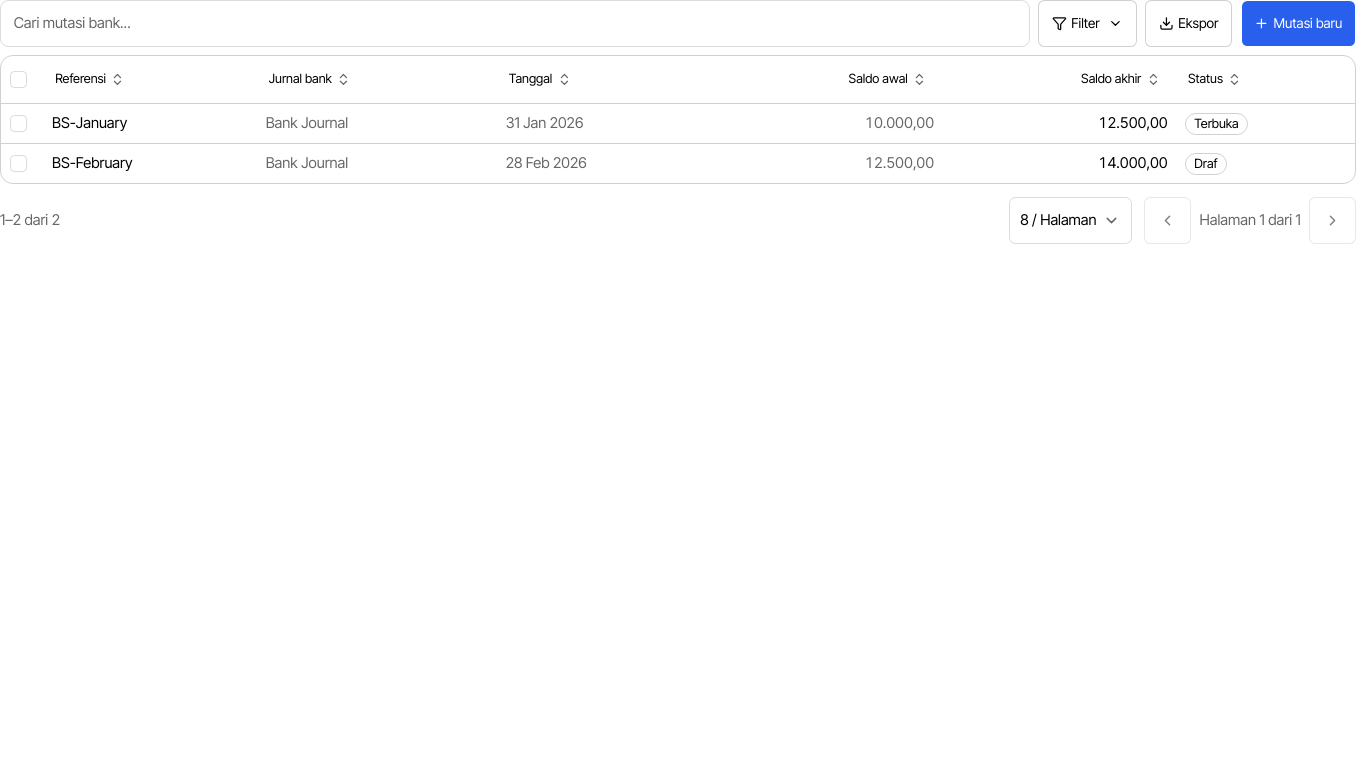
Test: BankStatementsSection › opens the create dialog from the add button
Expected: the link "BS-January" is shown, [52, 114, 127, 132]
Click the button "Mutasi baru": (1298, 23) [1241, 0, 1356, 47]
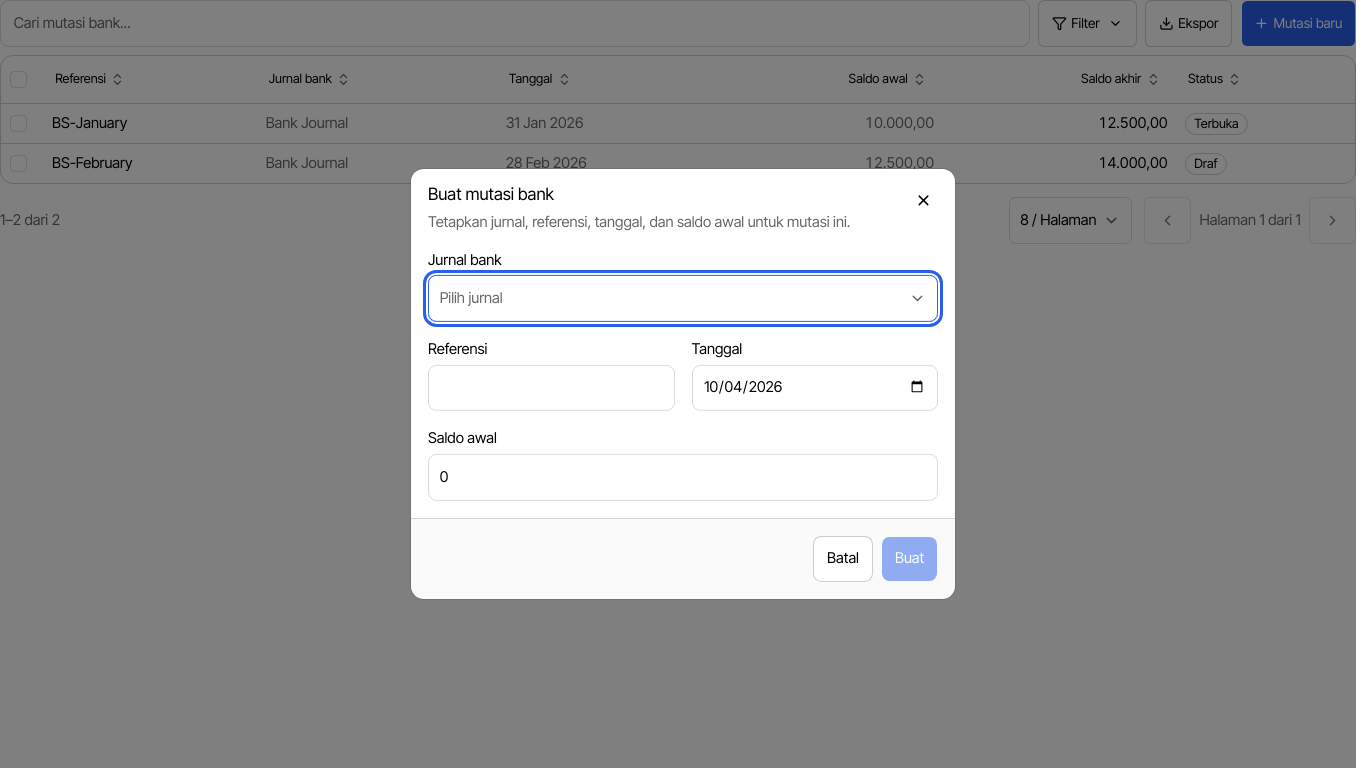
Expected: the dialog is shown, [411, 169, 955, 599]
Expected: the heading "Buat mutasi bank" is shown, [428, 184, 554, 204]
